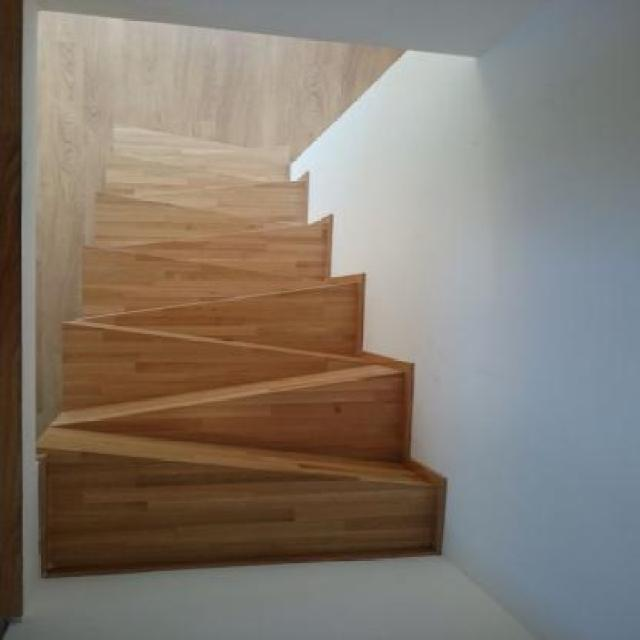stair: (61, 98, 472, 564)
